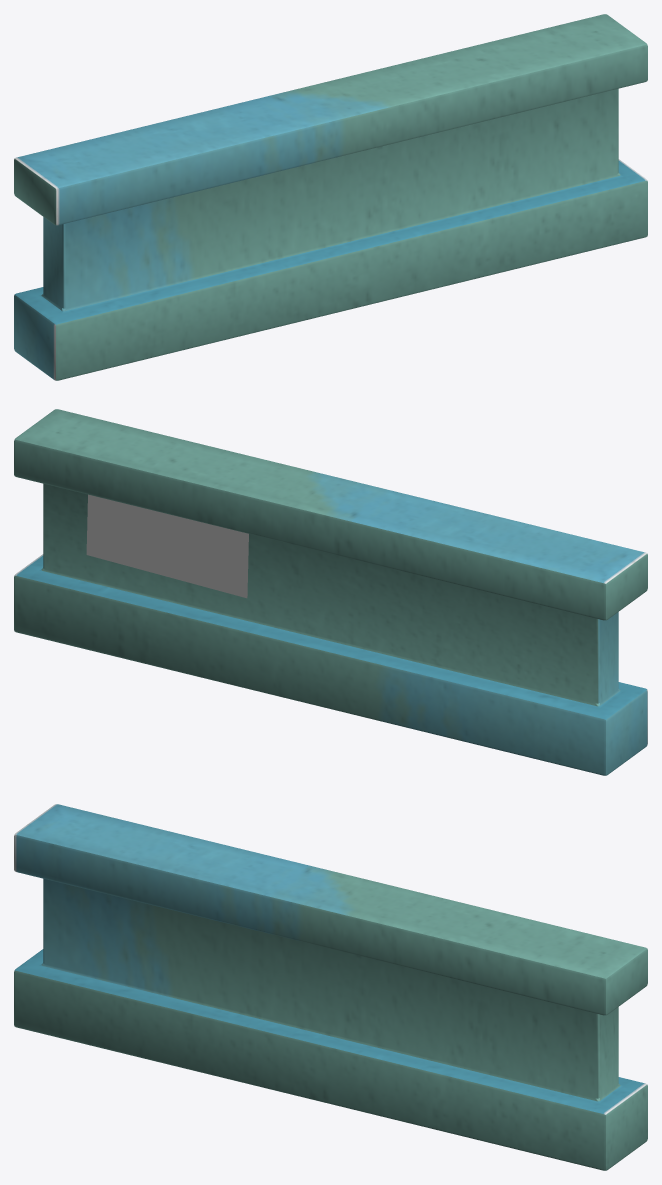
The model's file is TOMB_WALL_3_1_001.obj.
The picture shows the model from 3 angles, top to bottom: view 1: azimuth 30°, elevation 25°; view 2: azimuth 150°, elevation 25°; view 3: azimuth 330°, elevation 25°; orthographic projection.
Visible parts, largest first — view 1: TOMB_WALL_3_1_001; view 2: TOMB_WALL_3_1_001; view 3: TOMB_WALL_3_1_001.
Part boxes in pixels (left/top/right/bottom): TOMB_WALL_3_1_001: left=14, top=14, right=647, bottom=380; TOMB_WALL_3_1_001: left=14, top=409, right=647, bottom=775; TOMB_WALL_3_1_001: left=14, top=804, right=647, bottom=1170.
Size of the model in its own units: 3.2 by 1 by 0.4.
